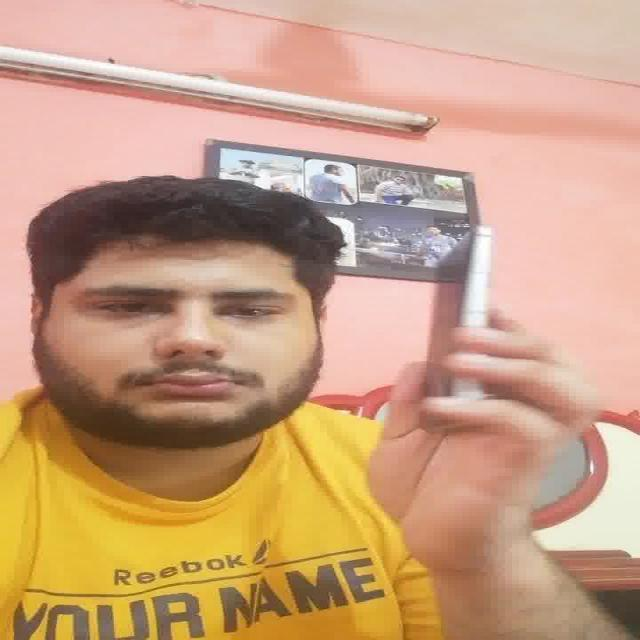Phone: (424, 228, 498, 357)
